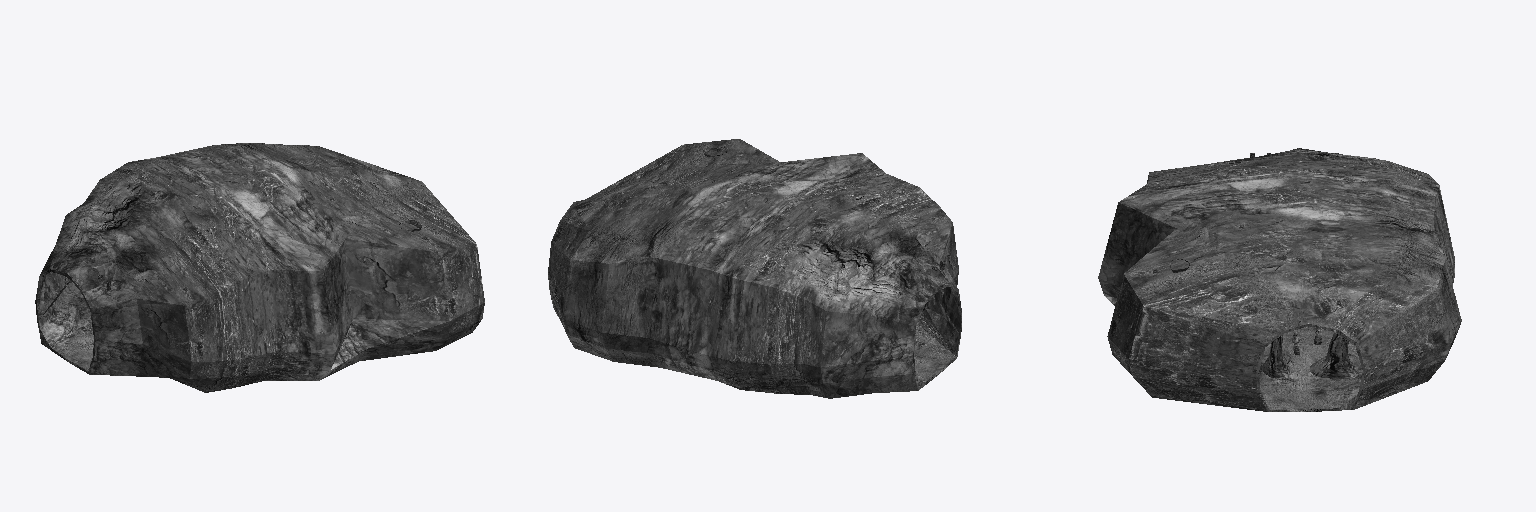
3 views of the same model, side by side, from view 1: azimuth 30°, elevation 25°; view 2: azimuth 150°, elevation 25°; view 3: azimuth 270°, elevation 25° (orthographic).
Parts seen in each view (by area): view 1: entrance; view 2: entrance; view 3: entrance, cavelarge.
Boxes of the visible parts, <box> form: entrance: <box>35,143,484,392</box>; entrance: <box>548,139,961,398</box>; entrance: <box>1098,148,1461,411</box>; cavelarge: <box>1170,153,1356,378</box>.
Bounding box in the file's own units: 392 × 140 × 338.
3 materials, 3 textured.